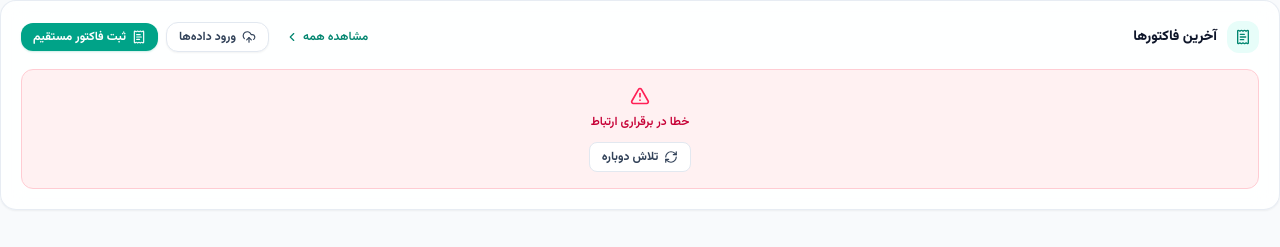
Test case: [component] LastInvoicesCard › renders error state and retries on button click
Check: the text "خطا در برقراری ارتباط" is shown, box [591, 114, 689, 130]
Click the button "تلاش دوباره" at (640, 157), box [589, 142, 691, 172]
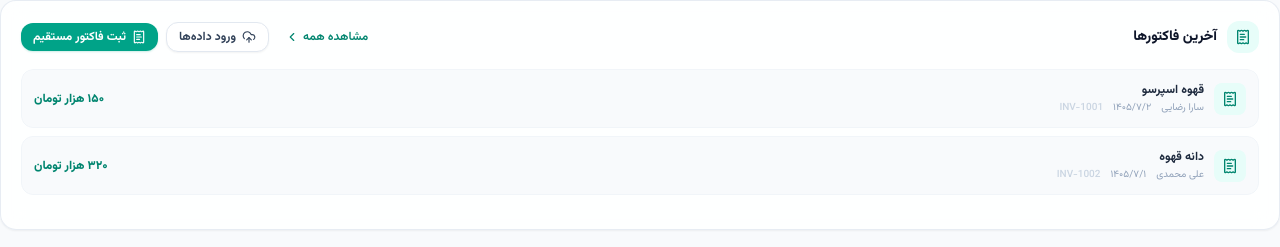
Check: the text "قهوه اسپرسو" is shown, box [1142, 81, 1204, 99]
